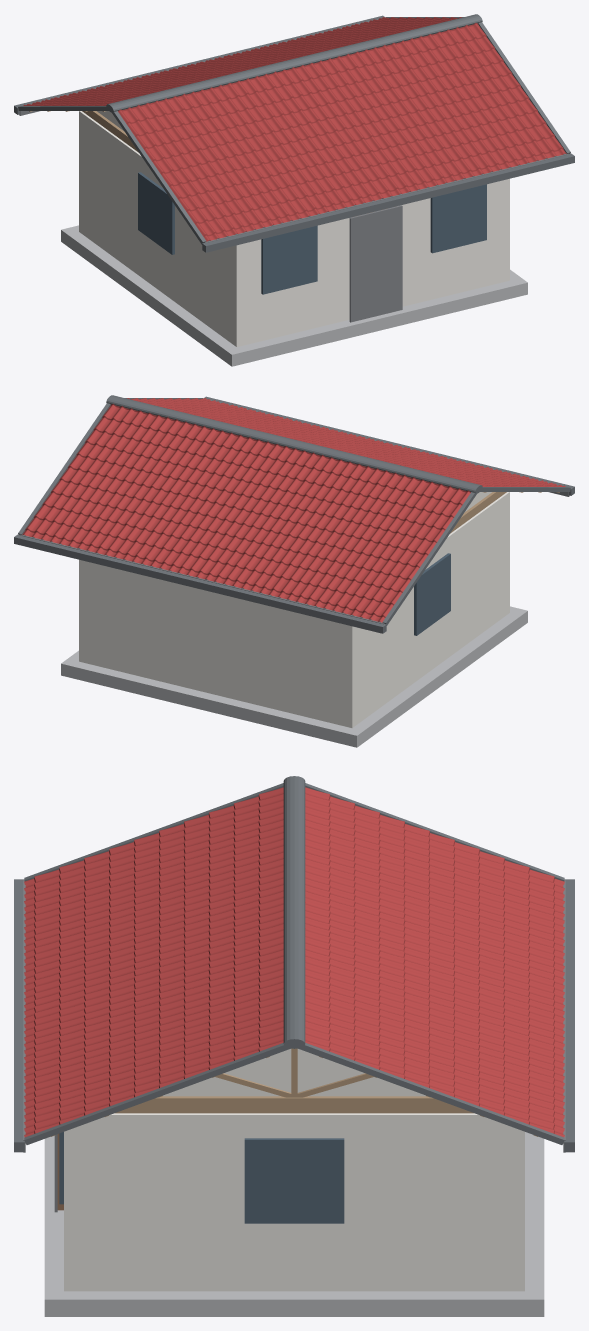
File: Hermosa_Tile_Starter_House_6x6.glb
3 renders of one model, top to bottom at view 1: azimuth 30°, elevation 25°; view 2: azimuth 150°, elevation 25°; view 3: azimuth 270°, elevation 25°, orthographic. The views are drawn at different scales.
Parts seen in each view (by area): view 1: GroundFloor_Walls, Foundation, RoofSheet_03, RoofSheet_07, RoofSheet_04, RoofSheet_05, RoofSheet_02, RoofSheet_06, RoofSheet_08, RoofSheet_01, Door_Frame, Gutter_Front (+17 smaller); view 2: GroundFloor_Walls, Foundation, RoofSheet_11, RoofSheet_15, RoofSheet_12, RoofSheet_10, RoofSheet_13, RoofSheet_14, RoofSheet_16, RoofSheet_09, Gutter_Back, Ridge_Cap (+14 smaller); view 3: GroundFloor_Walls, Foundation, Window_Side_Right, RoofSheet_03, RoofSheet_11, RoofSheet_06, RoofSheet_14, RoofSheet_04, RoofSheet_05, RoofSheet_12, RoofSheet_13, RoofSheet_01 (+19 smaller).
Boxes of the visible parts, x1,y1,x2,y2 form: GroundFloor_Walls: (79, 111, 509, 346); Foundation: (61, 225, 527, 366); RoofSheet_03: (206, 78, 340, 219); RoofSheet_07: (388, 34, 522, 175); RoofSheet_04: (252, 67, 385, 208); RoofSheet_05: (297, 56, 431, 197); RoofSheet_02: (161, 89, 294, 230); RoofSheet_06: (343, 45, 476, 186); RoofSheet_08: (434, 22, 566, 164); RoofSheet_01: (118, 100, 248, 241); Door_Frame: (349, 205, 402, 322); Gutter_Front: (202, 153, 574, 252); GroundFloor_Walls: (79, 492, 509, 727); Foundation: (61, 606, 527, 747); RoofSheet_11: (248, 459, 382, 600); RoofSheet_15: (66, 415, 200, 556); RoofSheet_12: (203, 448, 336, 589); RoofSheet_10: (294, 470, 427, 611); RoofSheet_13: (157, 437, 291, 578); RoofSheet_14: (112, 426, 245, 567); RoofSheet_16: (22, 403, 154, 545); RoofSheet_09: (340, 481, 470, 622); Gutter_Back: (14, 534, 386, 633); Ridge_Cap: (106, 395, 482, 493); GroundFloor_Walls: (64, 1113, 524, 1291); Foundation: (44, 1132, 544, 1316); Window_Side_Right: (244, 1138, 344, 1223); RoofSheet_03: (24, 852, 283, 978); RoofSheet_11: (305, 852, 564, 978); RoofSheet_06: (24, 949, 283, 1075); RoofSheet_14: (305, 949, 564, 1075); RoofSheet_04: (24, 884, 283, 1010); RoofSheet_05: (24, 917, 283, 1043); RoofSheet_12: (305, 884, 564, 1010); RoofSheet_13: (305, 917, 564, 1043); RoofSheet_01: (24, 787, 283, 913).
Size of the model in its own units: 8.1 by 4.36 by 7.3.
